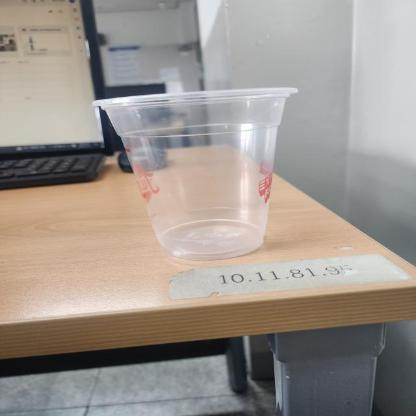Plastic Cup: (92, 86, 300, 260)
